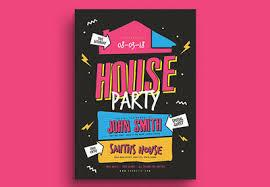Printing industry: (56, 5, 232, 187)
